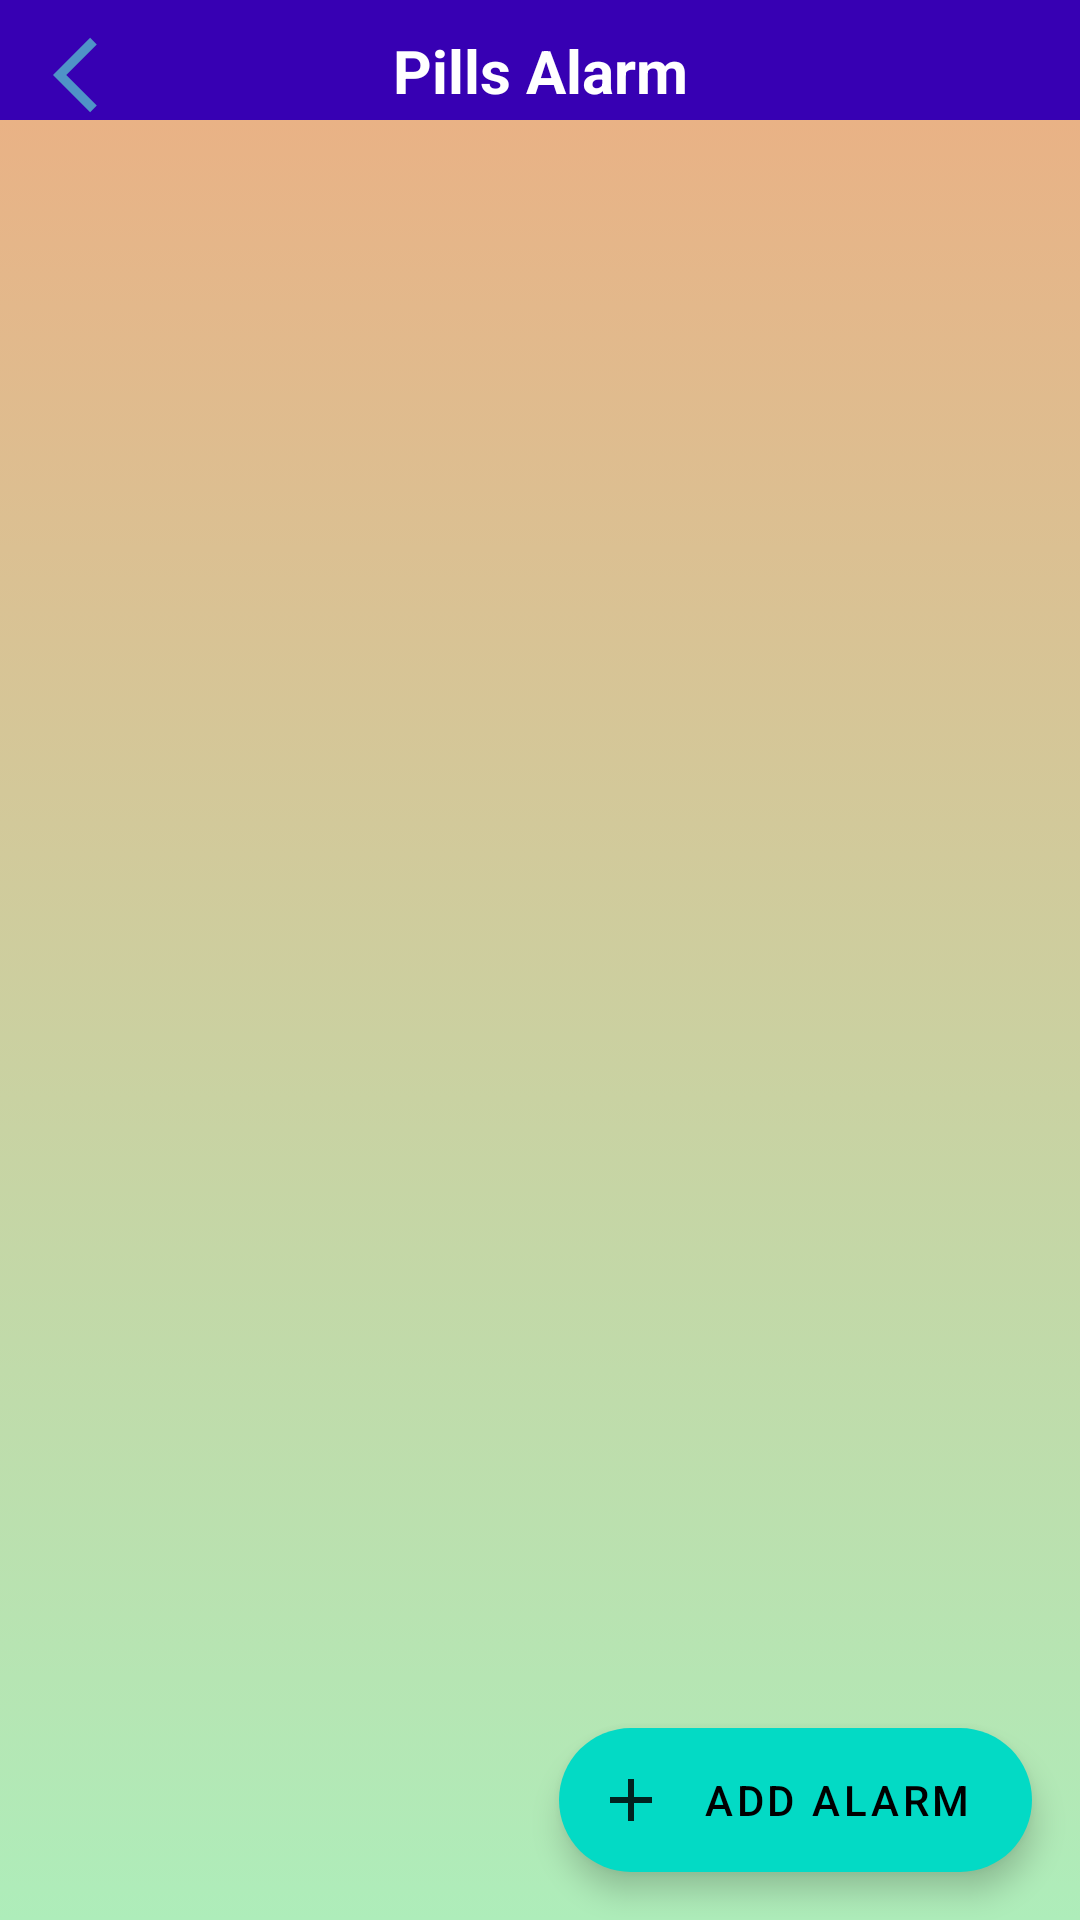

Locate icon controls on the screen. Image size 1080px x 1920px, boxes as (x1, y1, x2, y2).
back: (53, 38, 97, 112)
